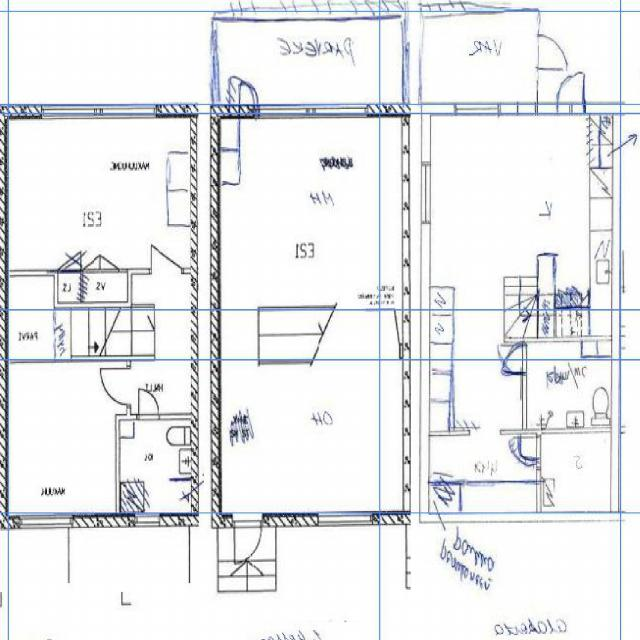door: (234, 512, 262, 564), (152, 229, 182, 275), (557, 66, 585, 114), (100, 369, 132, 405), (243, 72, 268, 117), (535, 35, 566, 69), (499, 368, 527, 398), (516, 452, 541, 478), (139, 388, 159, 420)
